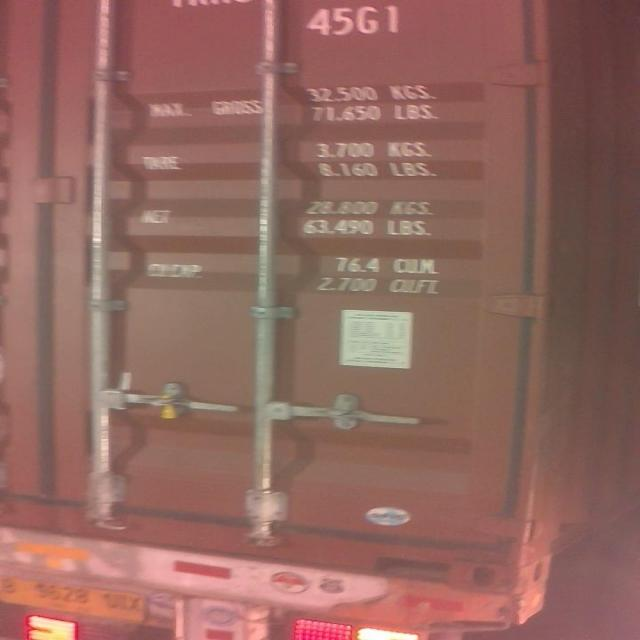seal: (156, 389, 188, 422)
